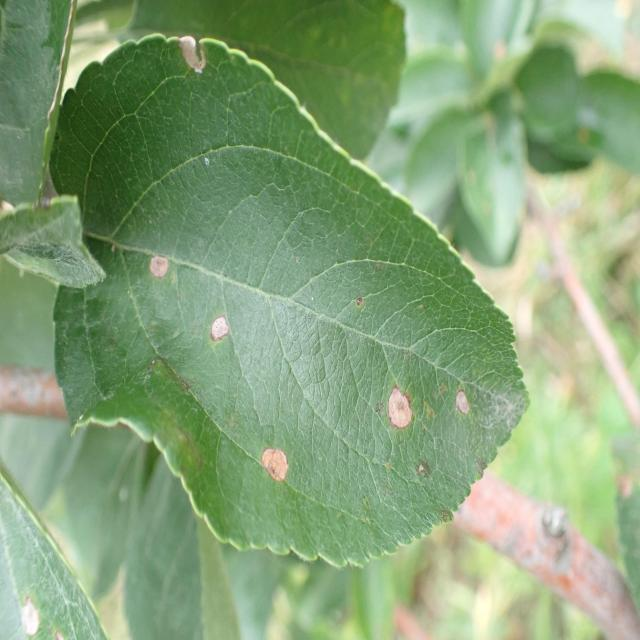frog-eye-leaf-spot: (53, 32, 531, 569)
